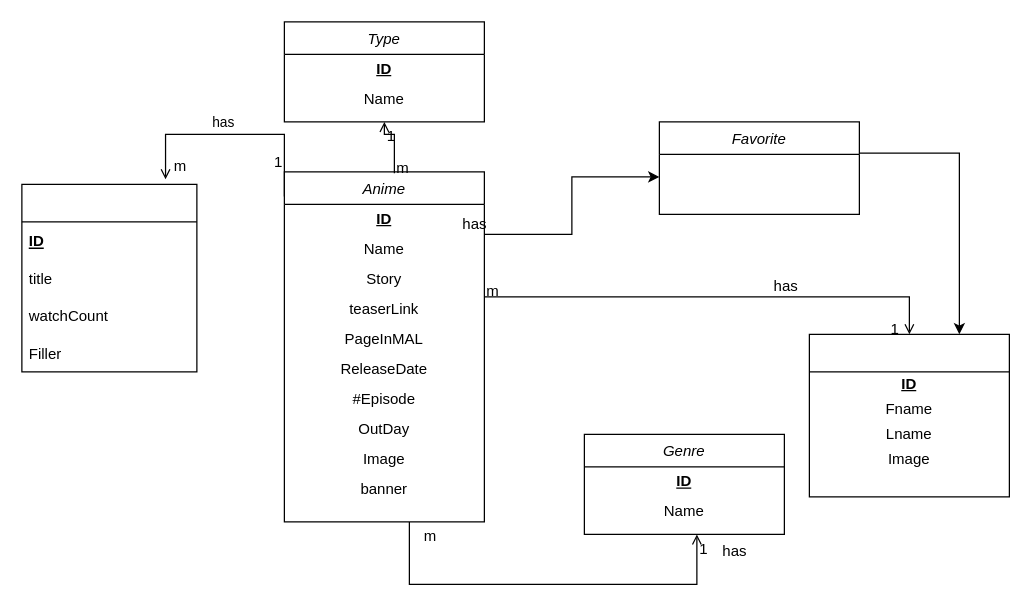
The diagram is 1031 pixels wide and 616 high, and some of its shapes have lost their labels. Each missing label, with the box of its shape:
Episode: (21, 183, 197, 372)
User: (808, 333, 1009, 497)
